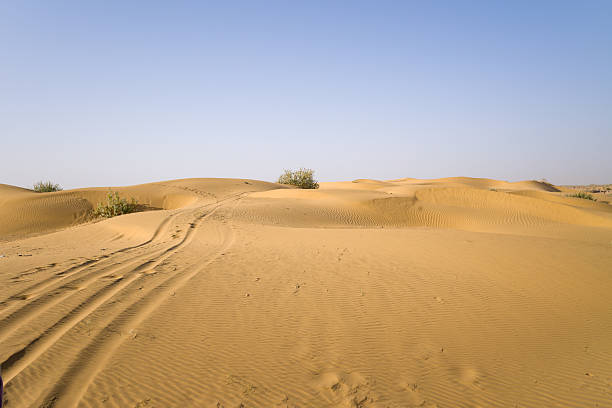vehicle_track: (2, 194, 239, 382), (38, 227, 233, 406), (0, 213, 176, 313)
